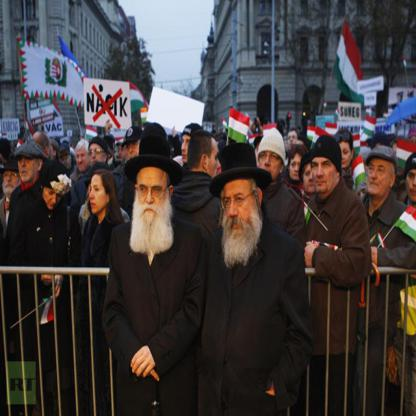face: (224, 176, 256, 239), (138, 172, 169, 223), (312, 156, 336, 193), (368, 160, 391, 195), (206, 137, 222, 181), (91, 177, 108, 215), (260, 151, 281, 181), (43, 186, 62, 211), (19, 158, 37, 183), (303, 165, 317, 194), (337, 142, 352, 169), (290, 155, 303, 182), (6, 171, 20, 196), (91, 145, 105, 170), (406, 170, 416, 202), (183, 135, 194, 163), (77, 148, 89, 173), (127, 143, 140, 164), (45, 138, 54, 161), (288, 131, 298, 148), (62, 153, 71, 168), (214, 127, 216, 131)
